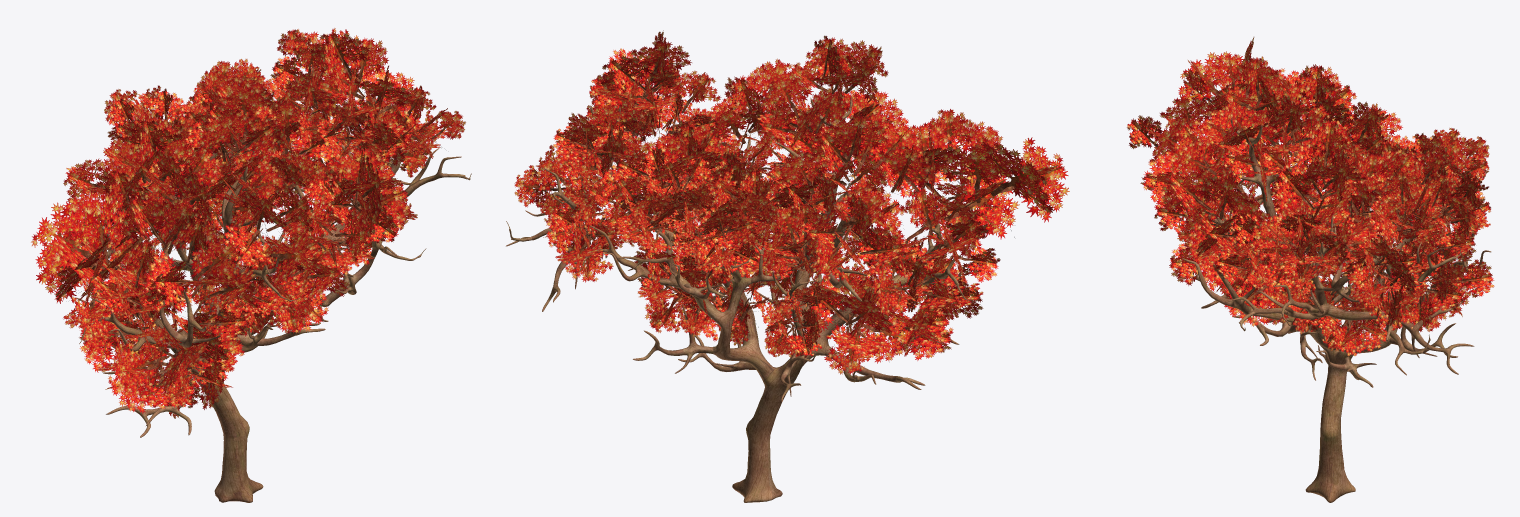
The model's file is maple.glb.
3 renders of one model, left to right at view 1: azimuth 30°, elevation 25°; view 2: azimuth 150°, elevation 25°; view 3: azimuth 270°, elevation 25°, orthographic. The views are drawn at different scales.
Parts seen in each view (by area): view 1: japanese_maple_leaves_3_0, japanese_maple_tree_2_1; view 2: japanese_maple_leaves_3_0, japanese_maple_tree_2_1; view 3: japanese_maple_leaves_3_0, japanese_maple_tree_2_1.
Boxes of the visible parts, <box> form: japanese_maple_leaves_3_0: <box>31,28,465,418</box>; japanese_maple_tree_2_1: <box>75,96,471,502</box>; japanese_maple_leaves_3_0: <box>514,30,1069,374</box>; japanese_maple_tree_2_1: <box>506,96,973,502</box>; japanese_maple_leaves_3_0: <box>1127,37,1494,356</box>; japanese_maple_tree_2_1: <box>1180,117,1491,502</box>.
Bounding box in the file's own units: 4.47 × 3.98 × 3.27.
2 materials, 2 textured.
